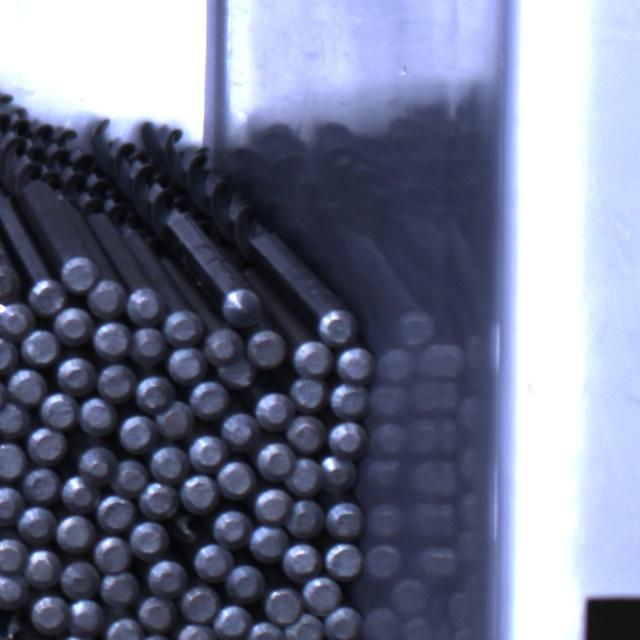tool: (248, 328, 288, 368), (126, 284, 166, 324), (79, 396, 118, 436), (57, 356, 96, 396), (138, 480, 178, 519), (193, 542, 233, 581), (60, 560, 99, 600), (211, 508, 250, 548), (220, 286, 260, 325), (302, 575, 341, 614), (264, 584, 303, 623), (191, 378, 230, 417), (119, 412, 158, 451), (6, 367, 46, 405), (330, 379, 370, 417), (179, 473, 217, 512), (30, 596, 68, 635), (256, 391, 294, 430), (149, 560, 188, 598), (136, 374, 175, 412), (56, 514, 95, 552), (151, 444, 190, 482), (287, 499, 325, 538), (204, 327, 243, 365), (227, 564, 266, 602), (88, 278, 127, 316), (28, 276, 68, 313), (293, 339, 333, 376), (22, 548, 59, 588), (164, 309, 204, 346), (40, 390, 78, 428), (54, 306, 92, 344), (92, 319, 130, 357), (130, 519, 168, 557), (287, 414, 325, 452), (188, 435, 226, 473), (257, 442, 295, 480), (248, 524, 286, 562), (166, 346, 205, 383), (327, 501, 366, 538), (283, 543, 322, 580), (318, 452, 355, 491), (26, 426, 66, 462), (130, 326, 166, 366), (97, 364, 135, 401), (180, 583, 218, 620), (93, 535, 131, 572), (318, 306, 355, 344), (216, 461, 254, 498), (19, 506, 56, 544), (156, 400, 194, 437), (325, 542, 364, 578), (21, 328, 60, 364), (95, 494, 134, 530), (336, 345, 375, 381), (284, 458, 320, 497), (102, 568, 141, 604), (61, 255, 98, 292), (330, 420, 368, 456), (138, 596, 176, 632), (254, 488, 292, 524), (221, 410, 259, 446), (78, 446, 116, 482), (66, 600, 104, 636), (366, 543, 403, 579), (214, 603, 252, 638), (112, 458, 148, 494), (23, 466, 60, 501), (325, 606, 363, 640), (288, 377, 324, 410), (0, 402, 30, 439), (284, 613, 323, 640), (0, 572, 26, 610), (0, 481, 22, 524), (0, 442, 25, 479), (104, 616, 141, 640), (0, 537, 25, 571), (248, 621, 286, 640), (174, 623, 216, 640), (0, 333, 17, 372), (139, 633, 173, 640)
tool_b: (172, 514, 203, 545), (0, 613, 24, 640)
